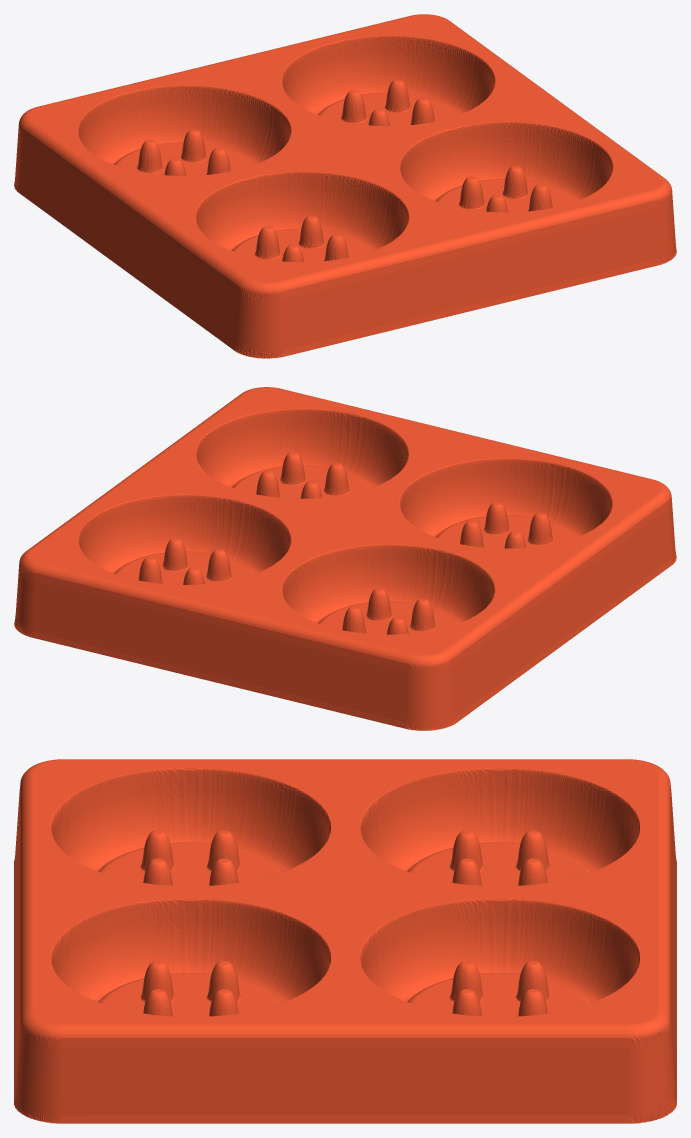
The model's file is mold.glb.
3 renders of one model, top to bottom at view 1: azimuth 30°, elevation 25°; view 2: azimuth 150°, elevation 25°; view 3: azimuth 270°, elevation 25°, orthographic. The views are drawn at different scales.
Parts seen in each view (by area): view 1: geometry_0; view 2: geometry_0; view 3: geometry_0.
Part boxes in pixels (bbox=[...]): geometry_0: bbox=[14, 14, 676, 358]; geometry_0: bbox=[14, 387, 676, 730]; geometry_0: bbox=[14, 759, 676, 1123].
Bounding box in the file's own units: 0.1218 × 0.0185 × 0.1218.
